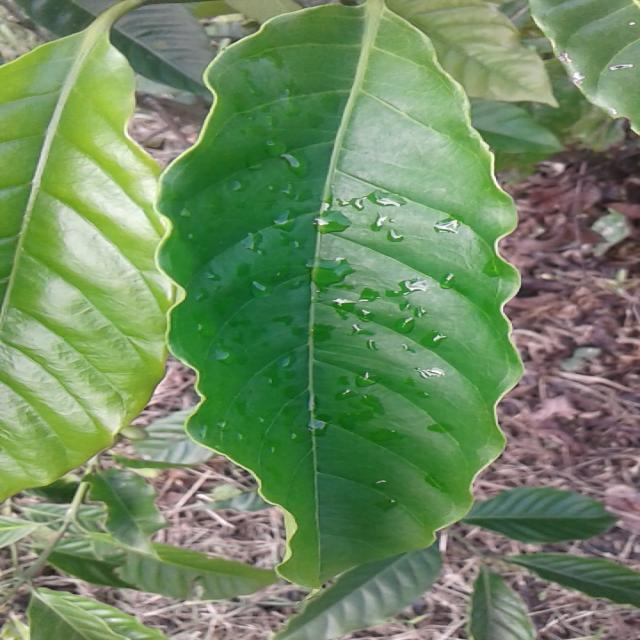Sanas: (156, 6, 524, 593)
